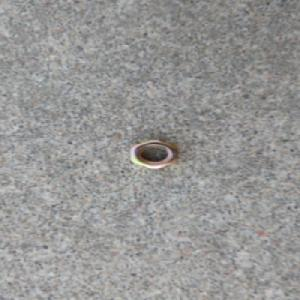Nut: (127, 138, 179, 169)
